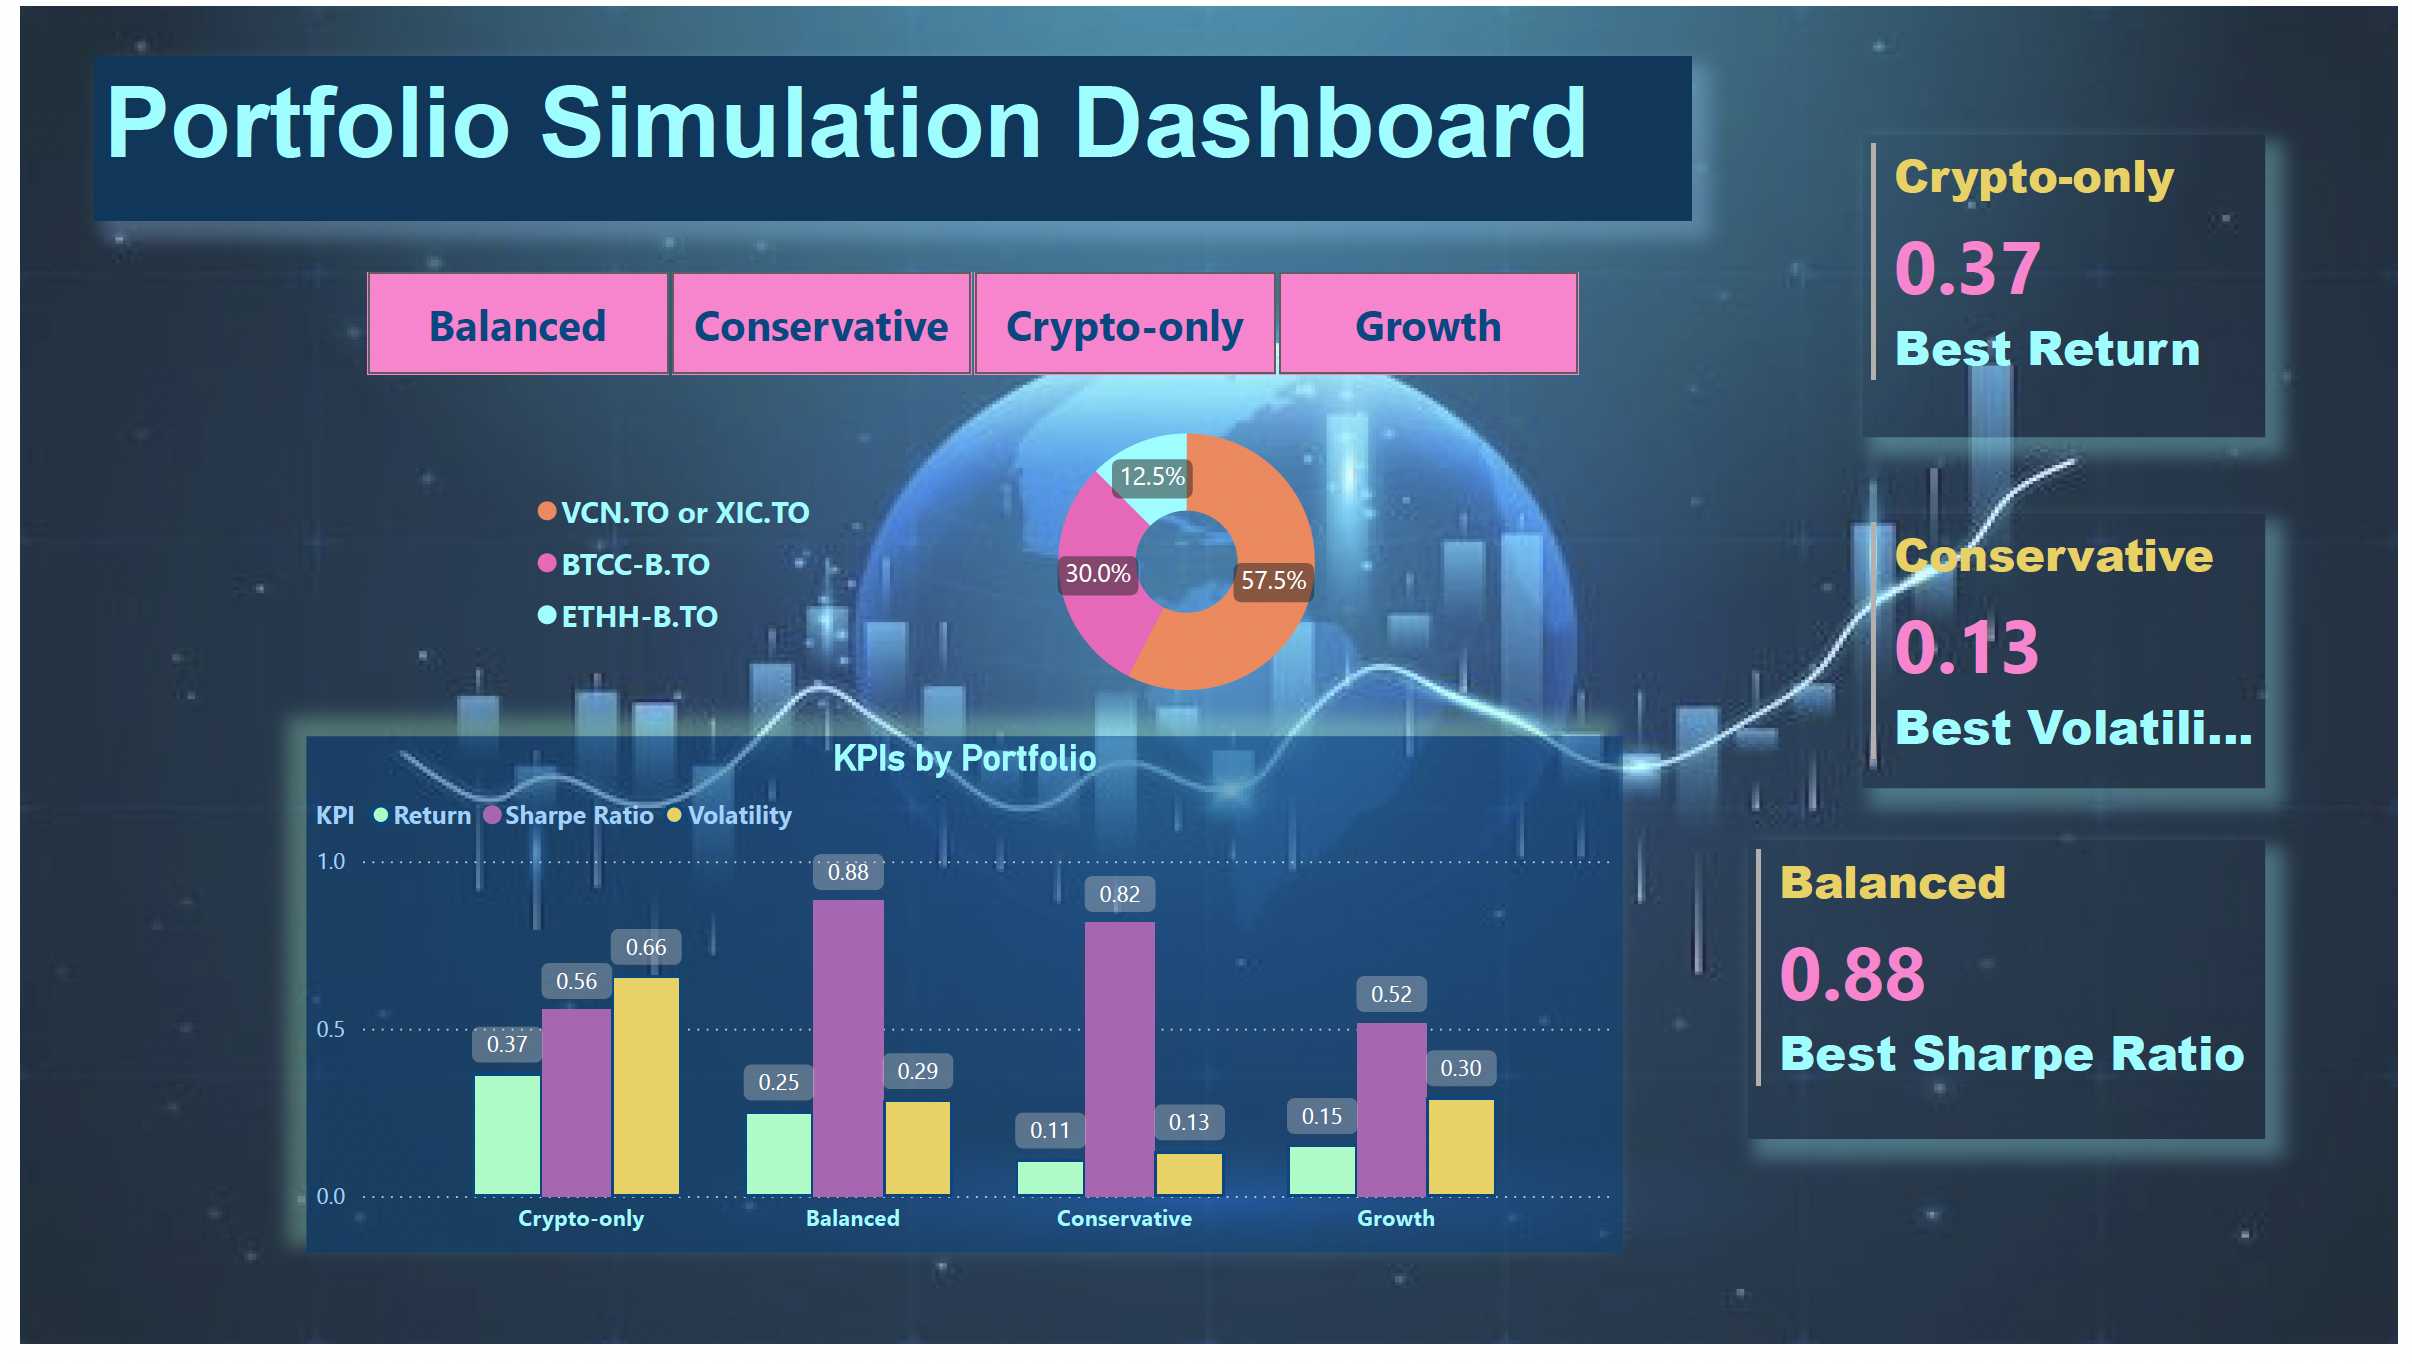

Layout of this report page (visuals, bound fields, positions):
{"tool":"powerbi","page":{"name":"Page 2","canvas":[1280,720],"ordinal":1},"visuals":[{"type":"textbox","box":[39.9,26.6,860.2,88.7],"z":0},{"type":"clusteredColumnChart","title":"KPIs by Portfolio ","fields":{"Category":["Simulation_portfolio.Portfolio"],"Y":["Sum(Simulation_portfolio.KPI Value)"],"Series":["Simulation_portfolio.KPI"]},"box":[153.7,393.2,709.5,277.9],"z":1000},{"type":"multiRowCard","fields":{"Values":["Calculations.BestReturnPortfolio","Calculations.MaxReturn"]},"box":[991.8,69.5,217.3,162.6],"z":2000},{"type":"multiRowCard","fields":{"Values":["Calculations.BestVolatilityPortfolio","Calculations.MinVolatility"]},"box":[991.8,273.4,217.3,147.8],"z":3000},{"type":"multiRowCard","fields":{"Values":["Calculations.BestSharpePortfolio","Calculations.MaxSharpeRatio"]},"box":[929.7,449.3,279.4,161.1],"z":4000},{"type":"pieChart","fields":{"Y":["Sum(Portfolios.Allocation)"],"Category":["Portfolios.ETF"]},"box":[272,205.5,554.3,187.7],"z":5000},{"type":"slicer","fields":{"Values":["Portfolios.Portfolio"]},"box":[161.1,136,702.1,69.5],"z":6000}]}

Visuals, with their boxes in screenshot pixels (x1, y1, x2, y2), scaled from the page's 1280x720 canvas onto the 2412x1364 screenshot:
textbox: [x1=75, y1=50, x2=1696, y2=218]
"KPIs by Portfolio " clusteredColumnChart: [x1=290, y1=745, x2=1627, y2=1271]
multiRowCard - Calculations.BestReturnPortfolio x Calculations.MaxReturn: [x1=1869, y1=132, x2=2278, y2=440]
multiRowCard - Calculations.BestVolatilityPortfolio x Calculations.MinVolatility: [x1=1869, y1=518, x2=2278, y2=798]
multiRowCard - Calculations.BestSharpePortfolio x Calculations.MaxSharpeRatio: [x1=1752, y1=851, x2=2278, y2=1156]
pieChart - Sum(Portfolios.Allocation) x Portfolios.ETF: [x1=513, y1=389, x2=1557, y2=745]
slicer - Portfolios.Portfolio: [x1=304, y1=258, x2=1627, y2=389]
